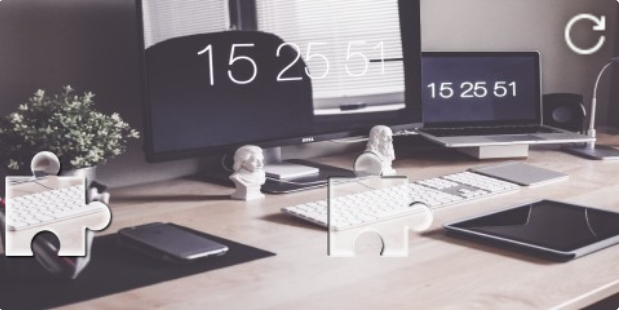target: (328, 153, 431, 258)
